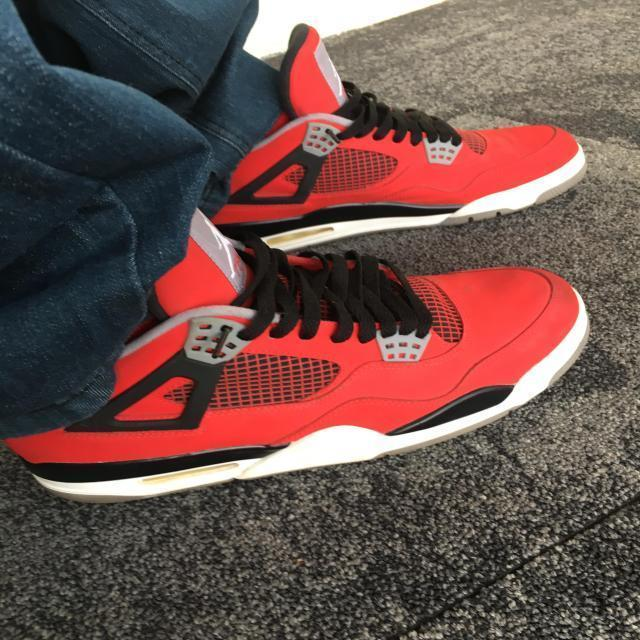shoes: (1, 208, 598, 507), (193, 22, 590, 252)
